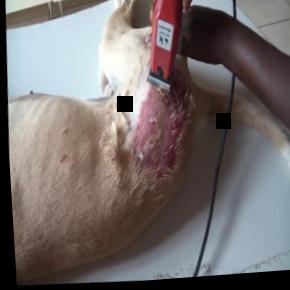skin_lesions: (122, 79, 187, 180)
